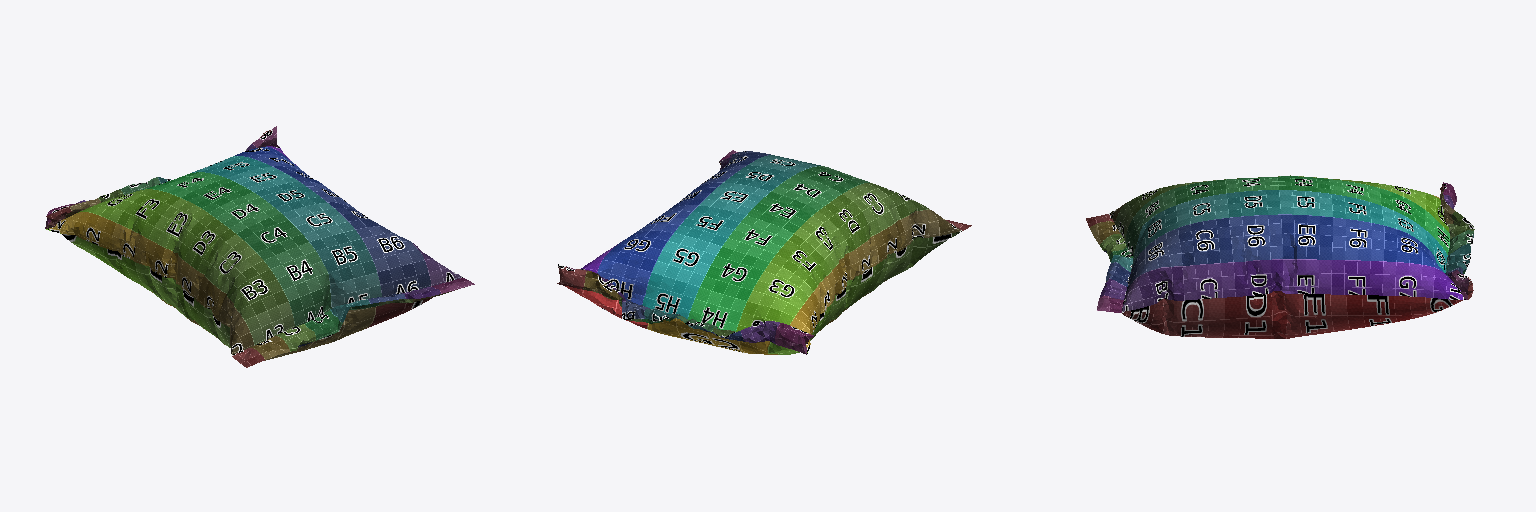
3 views of the same model, side by side, from view 1: azimuth 30°, elevation 25°; view 2: azimuth 150°, elevation 25°; view 3: azimuth 270°, elevation 25° (orthographic).
Size of the model in its own units: 1.02 by 0.4949 by 1.33.
3 materials, 1 textured.